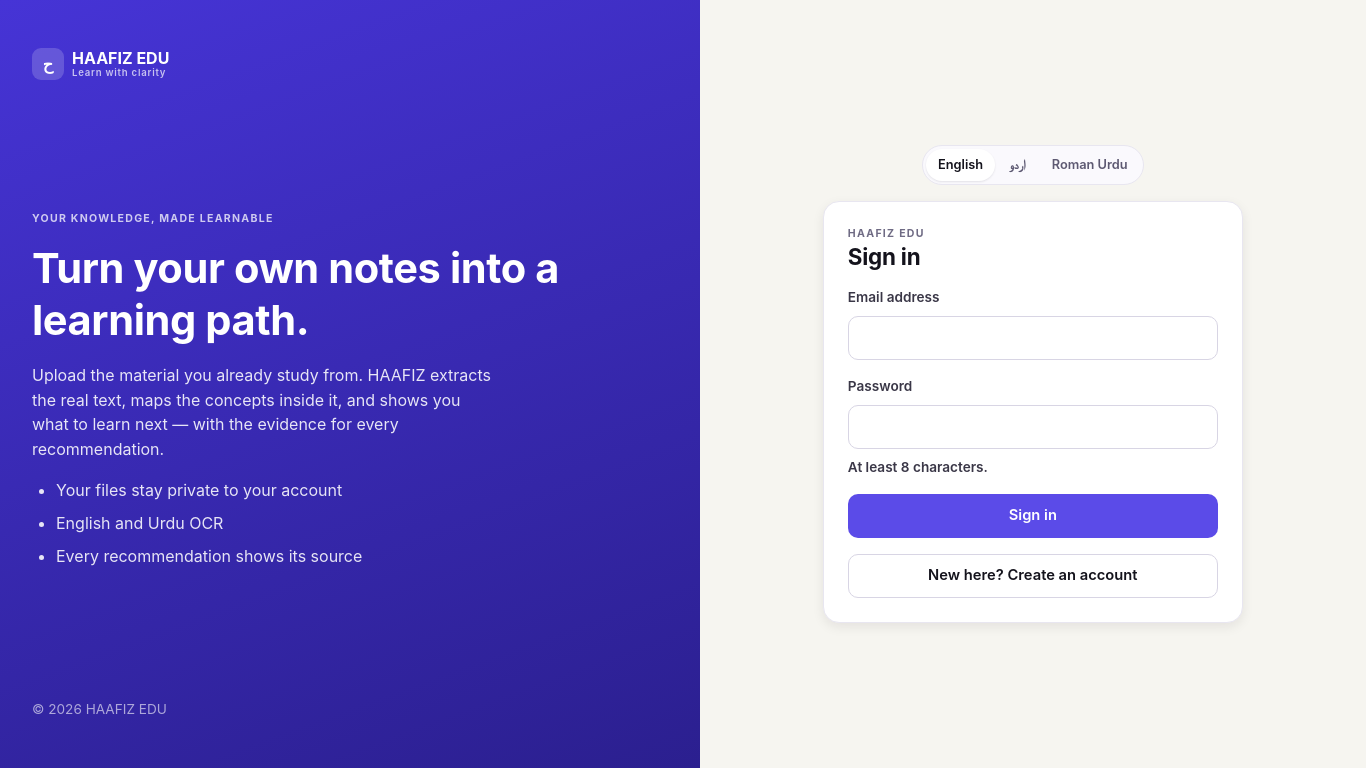
Test: AuthPage — sign in › shows the backend's own message when credentials are wrong
The width and height of the screenshot is (1366, 768).
Type "ayesha@example.com" into the field labelled "Email address" at (1033, 338), box [848,316,1218,360]
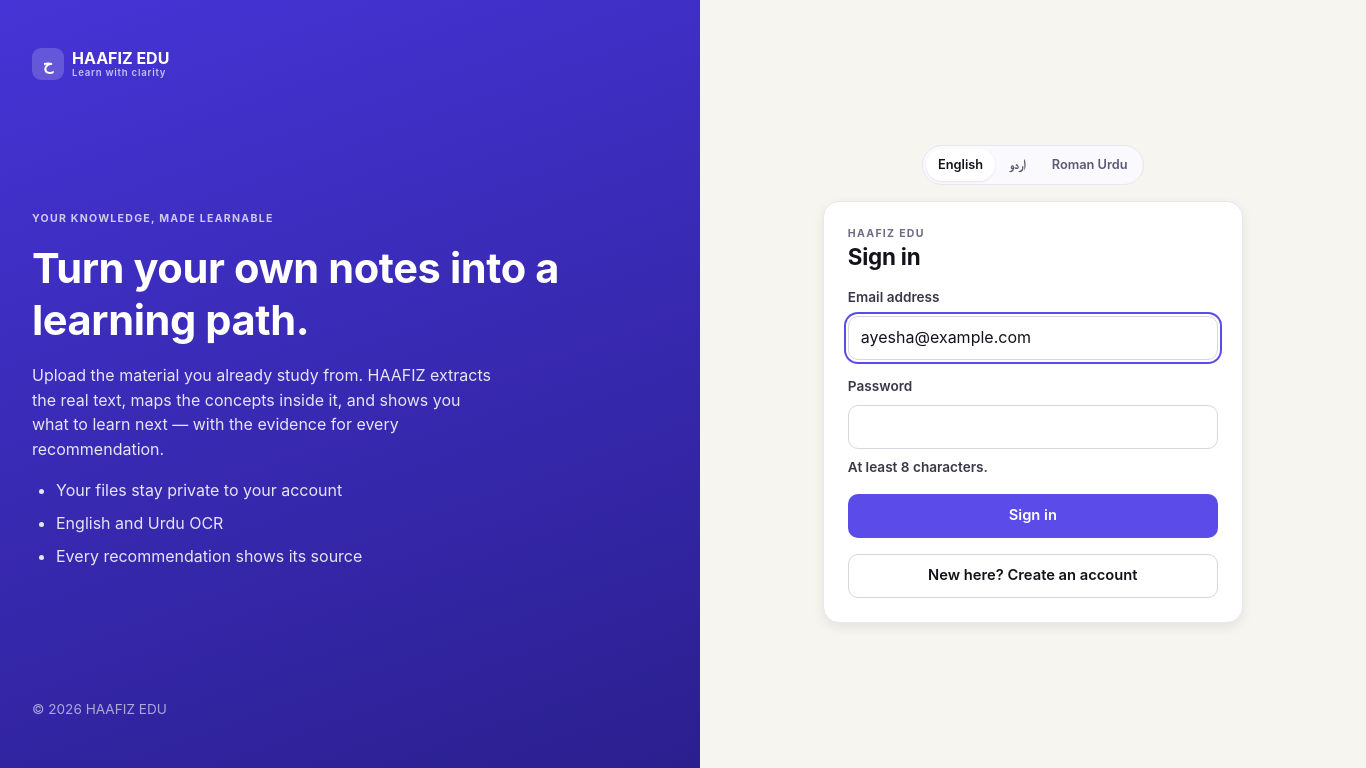
Type "wrongpassword" into the password field labelled "Password At least 8 characters." at (1033, 427), box [848,405,1218,449]
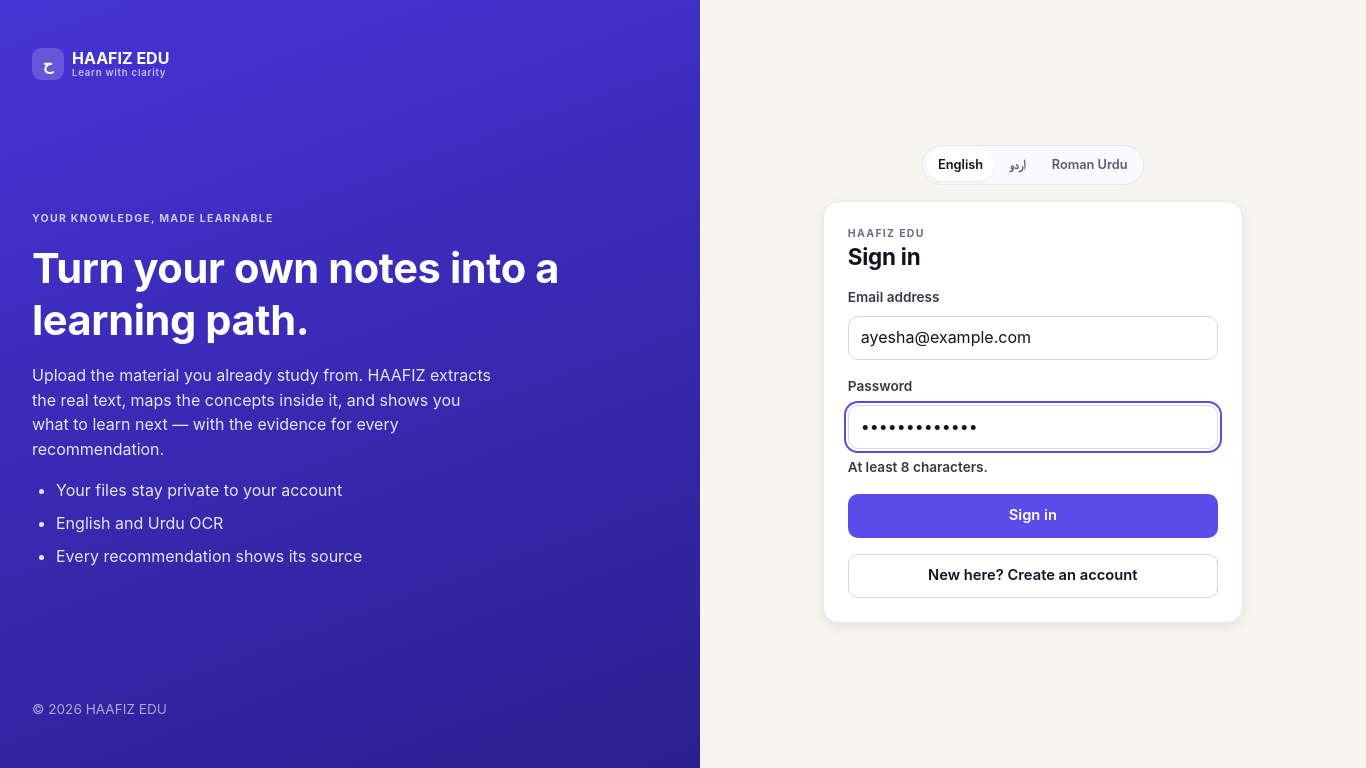
Click the button "Sign in" at (1033, 516), box [848,494,1218,538]
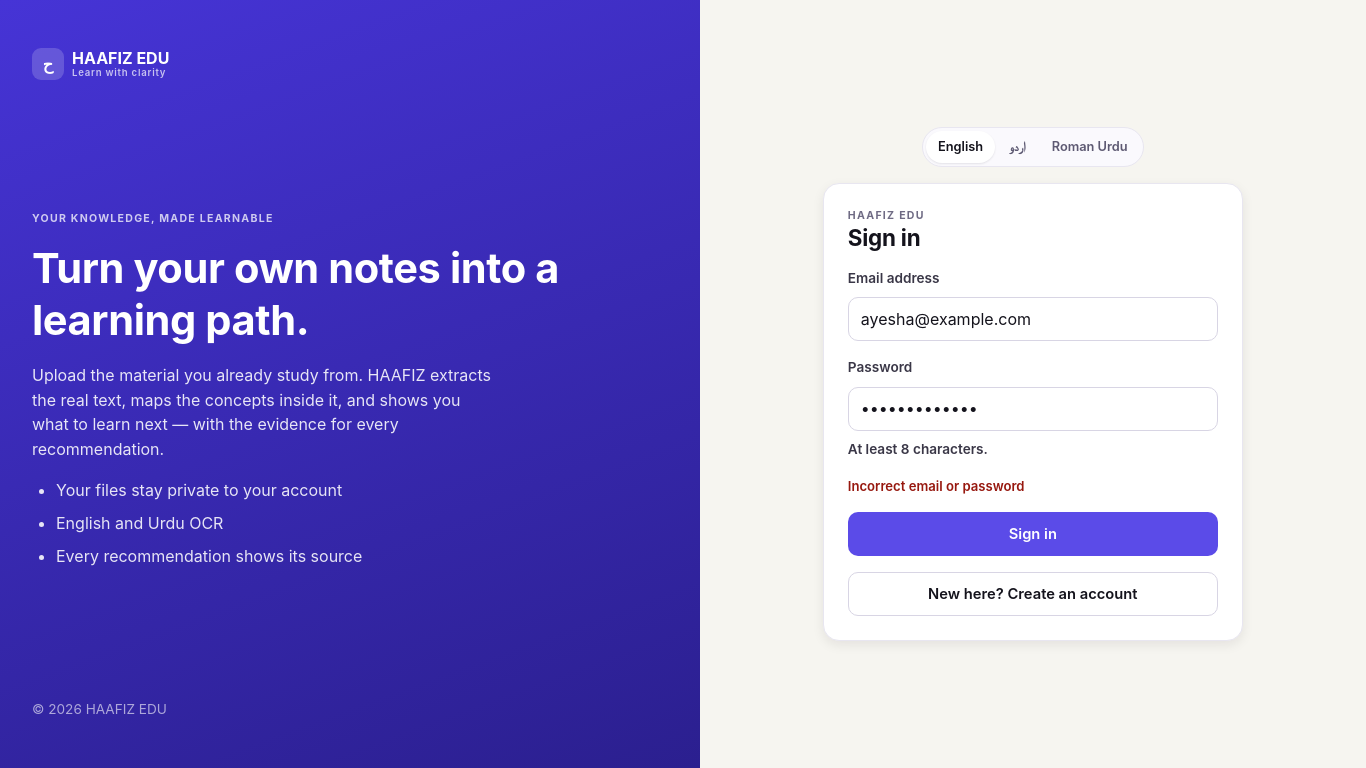
Result: the text "Incorrect email or password" is shown at [848,478,1024,494]
